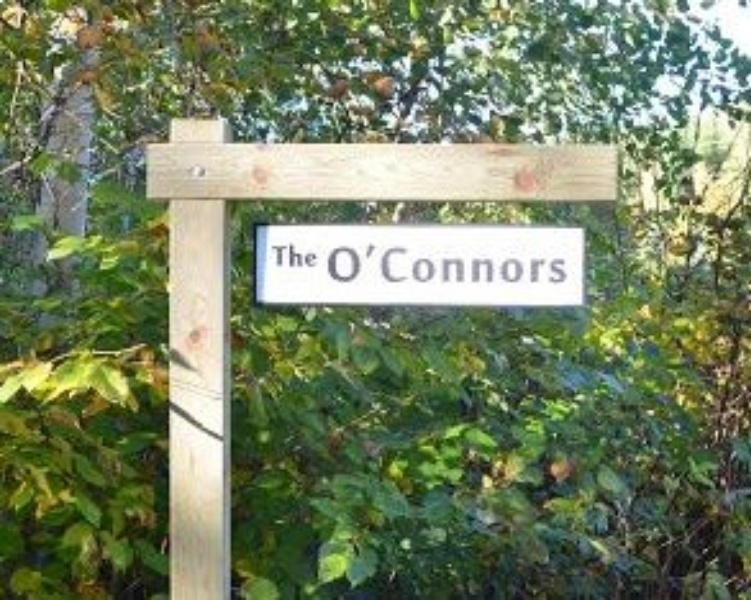text: (337, 244, 352, 285), (353, 244, 368, 285), (369, 244, 384, 285), (385, 244, 400, 285), (401, 244, 416, 285), (417, 244, 432, 285), (433, 244, 448, 285), (449, 244, 464, 285), (465, 244, 480, 285), (481, 244, 496, 285), (497, 244, 512, 285), (513, 244, 528, 285), (529, 244, 544, 285), (545, 244, 560, 285), (326, 244, 336, 285), (273, 244, 288, 270), (289, 244, 304, 270), (561, 244, 570, 285), (305, 244, 318, 270), (270, 244, 272, 270)
